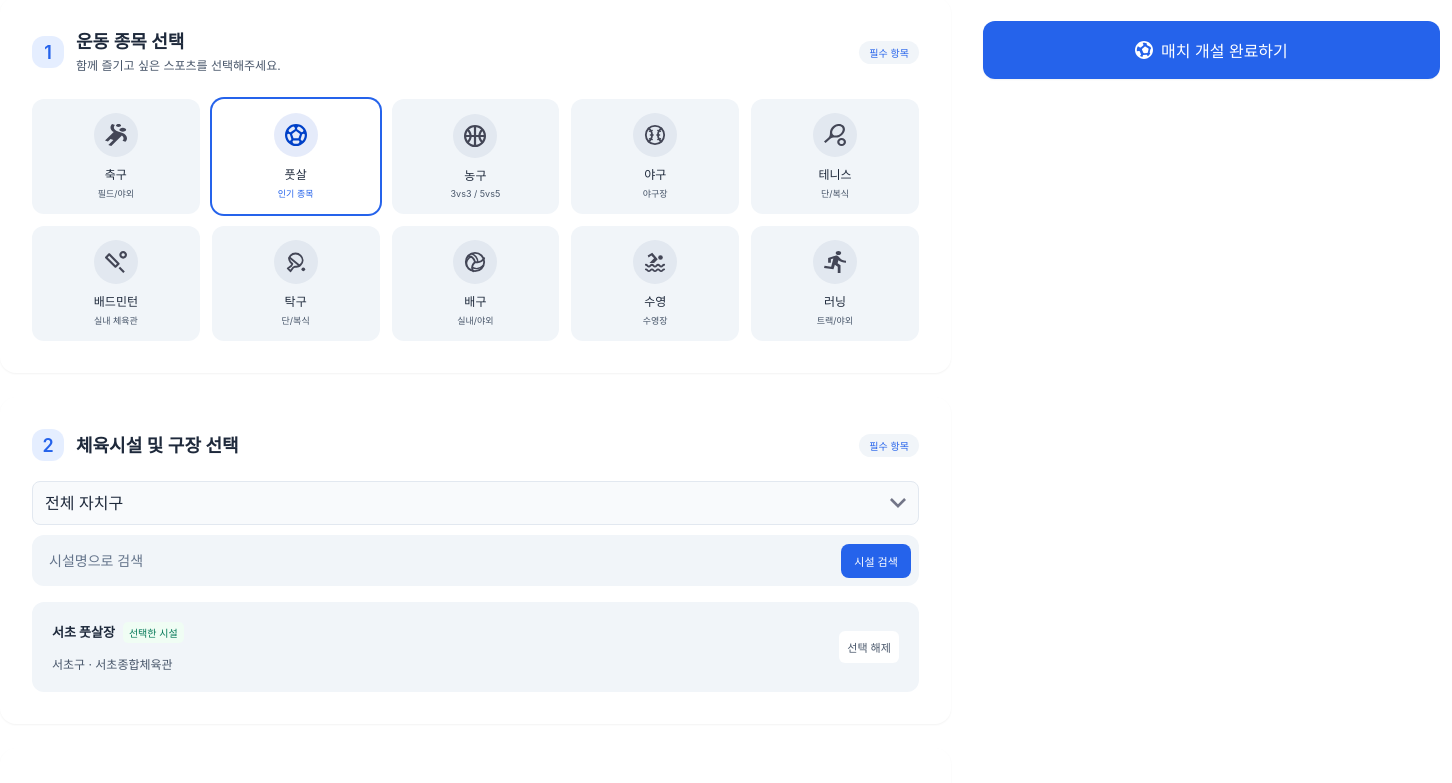
Scenario: displays HTTP 400 and preserves the input
The width and height of the screenshot is (1452, 783).
Click the button "매치 개설 완료하기". click: (1211, 50)
box: [983, 21, 1440, 79]
(page scrolled)
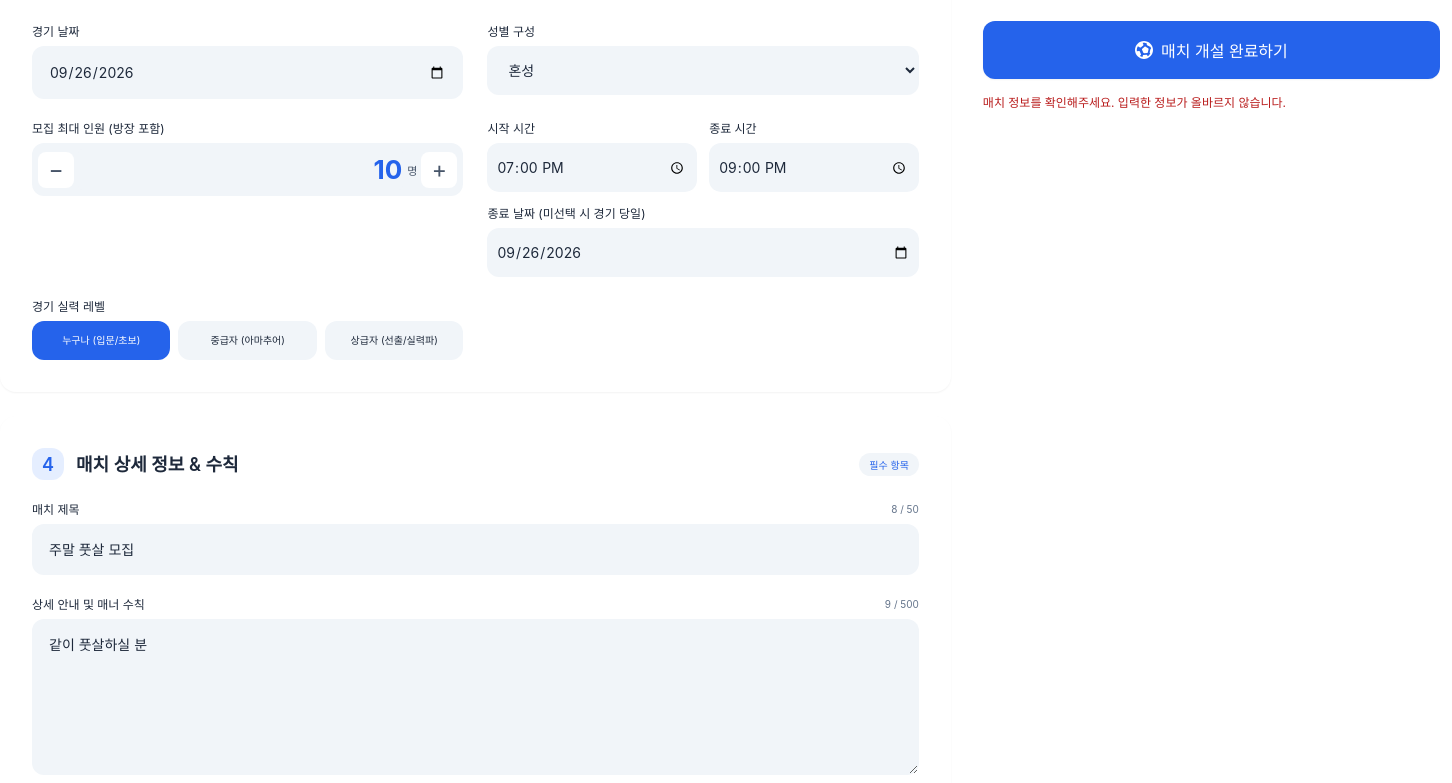
Check: the field labelled "매치 제목" holds "주말 풋살 모집", box [32, 524, 919, 575]
Check: the text "매치 정보를 확인해주세요. 입력한 정보가 올바르지 않습니다." is shown, box [983, 95, 1286, 110]
